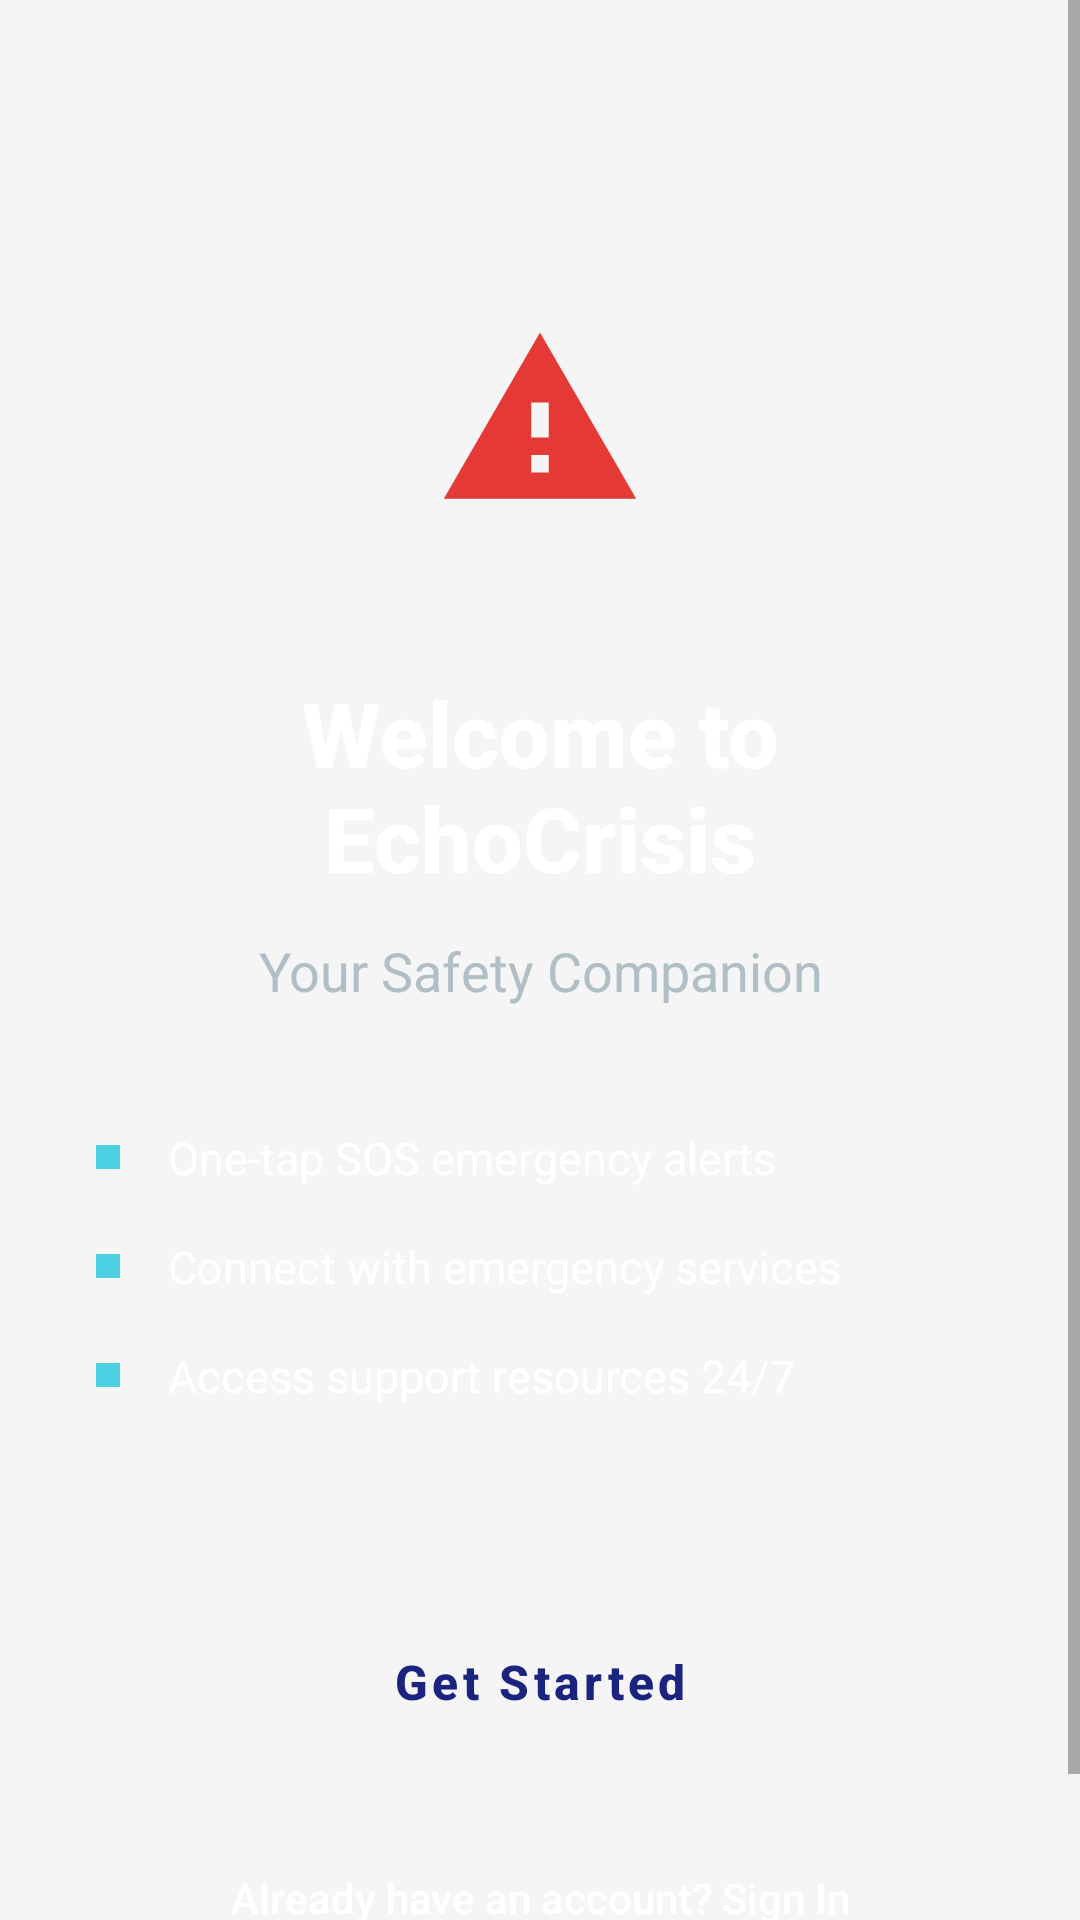

Named icons in this screenshot (1080*1920) and their centers, point (x, y):
sos: point (540, 416)
